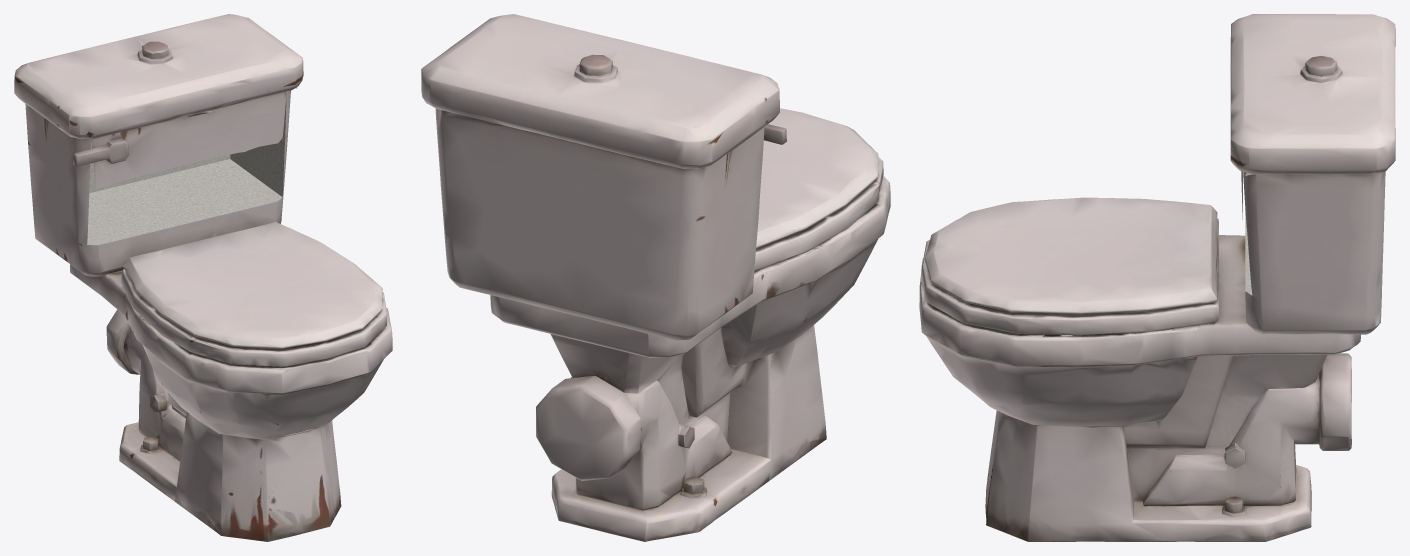
The model's file is toilet_fayansovyy_so_smyvom.glb.
3 views of the same model, side by side, from view 1: azimuth 30°, elevation 25°; view 2: azimuth 150°, elevation 25°; view 3: azimuth 270°, elevation 25° (orthographic). The views are drawn at different scales.
Visible parts, largest first — view 1: body, lid, tank_lid; view 2: body, tank_lid, lid; view 3: body, lid, tank_lid.
Boxes of the visible parts, box(x1,y1,x2,y2) form: body: box(14, 66, 392, 541); lid: box(122, 222, 386, 358); tank_lid: box(14, 14, 303, 124); body: box(421, 79, 890, 541); tank_lid: box(421, 14, 779, 151); lid: box(755, 108, 883, 263); body: box(919, 34, 1395, 541); lid: box(922, 197, 1213, 326); tank_lid: box(1230, 14, 1395, 157).
Size of the model in its own units: 0.481 by 0.7499 by 0.724.
3 materials, 3 textured.
